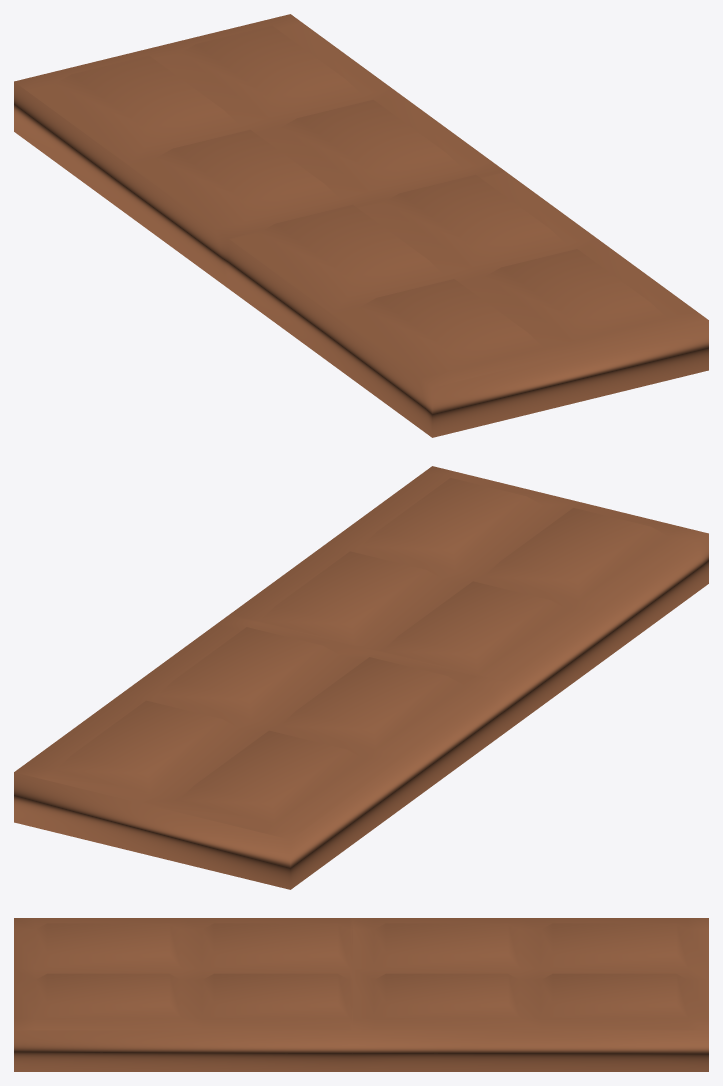
File: chocolate.fbx
The picture shows the model from 3 angles, top to bottom: view 1: azimuth 30°, elevation 25°; view 2: azimuth 150°, elevation 25°; view 3: azimuth 270°, elevation 25°; orthographic projection. The views are drawn at different scales.
Parts seen in each view (by area): view 1: Cube; view 2: Cube; view 3: Cube.
Part boxes in pixels (x1,y1,x2,y2): Cube: (14,14,708,437); Cube: (14,466,708,889); Cube: (14,918,708,1071).
Bounding box in the file's own units: 293 × 63.22 × 768.
